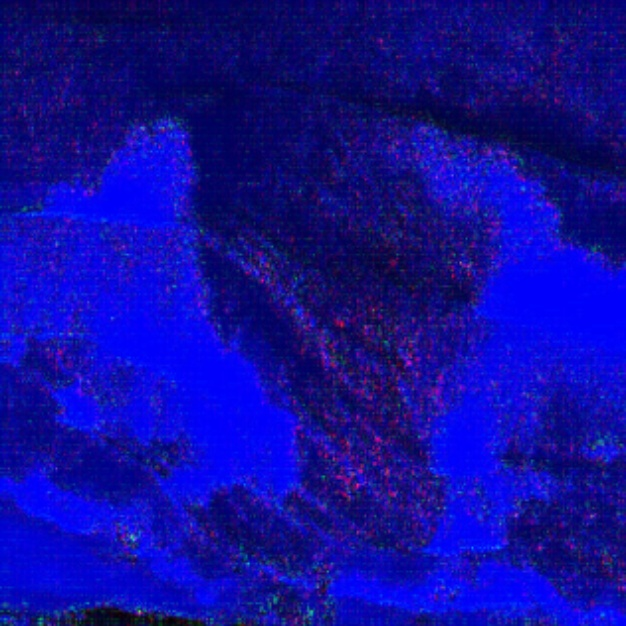rip_current: (148, 114, 475, 533)
